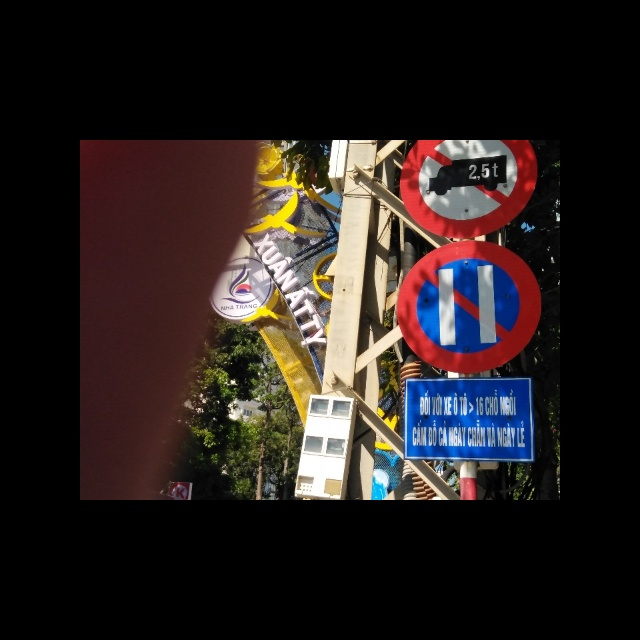Cấm xe tải: (399, 140, 545, 240)
Cấm đỗ xe ngày chẵn: (393, 243, 539, 375)
